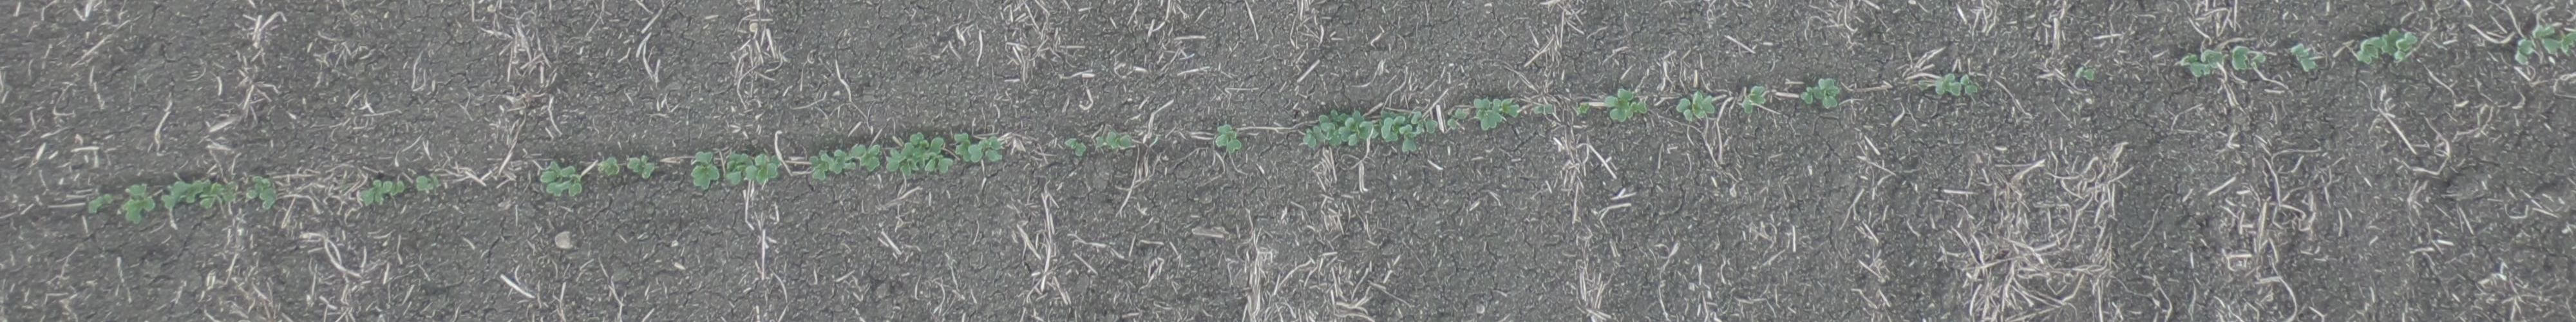clumped: (885, 133, 953, 176), (1304, 110, 1373, 149), (1377, 110, 1437, 154), (161, 179, 235, 209), (2356, 28, 2417, 62), (724, 151, 780, 186), (1474, 97, 1520, 130), (540, 161, 582, 197), (1603, 89, 1648, 122), (954, 133, 1002, 163), (810, 149, 853, 179), (1801, 77, 1840, 108), (1677, 90, 1713, 123)
isolated: (120, 182, 154, 223), (692, 151, 720, 191), (360, 179, 404, 204), (248, 176, 276, 209), (1214, 125, 1242, 153), (853, 145, 882, 171), (1741, 85, 1766, 113), (2537, 25, 2561, 53), (2292, 43, 2315, 72), (1096, 131, 1130, 149), (628, 156, 654, 179), (1935, 74, 1962, 97), (2514, 39, 2535, 66), (2201, 51, 2221, 74), (85, 194, 110, 212), (2185, 53, 2201, 77), (600, 156, 619, 176), (1447, 108, 1467, 128), (1065, 138, 1086, 156), (416, 174, 439, 191), (2233, 48, 2247, 71), (1962, 76, 1976, 95), (2561, 31, 2576, 51), (1536, 104, 1554, 115), (2080, 69, 2095, 80), (1579, 102, 1590, 113)
